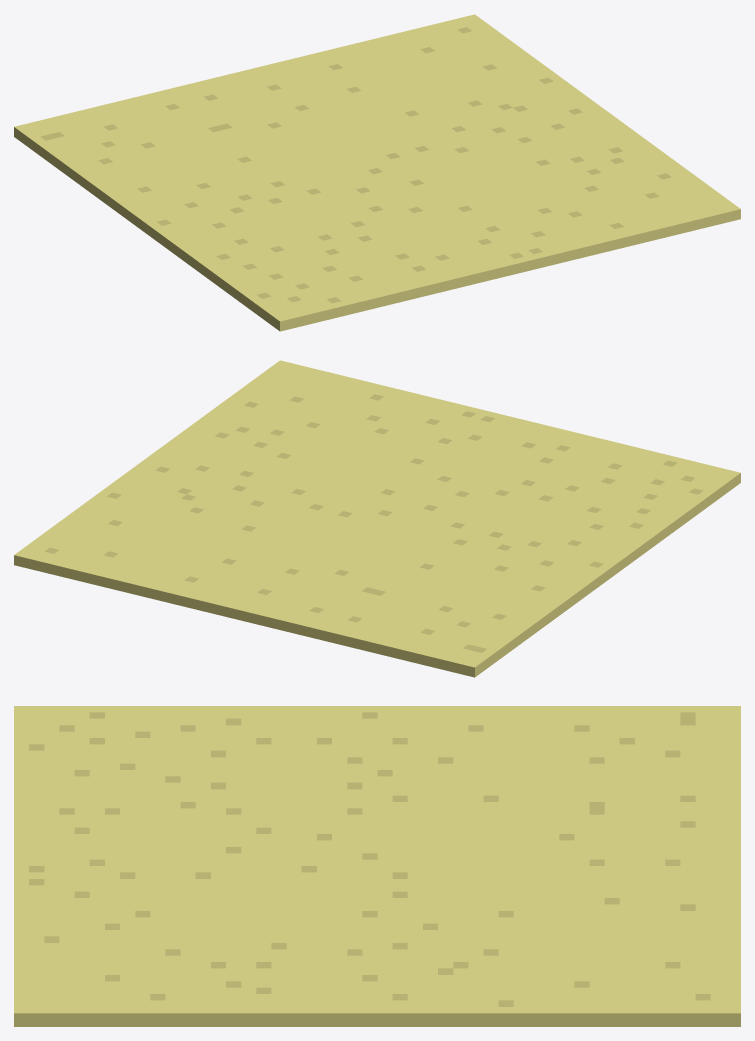
Rendered from dirt-path.obj.
3 renders of one model, top to bottom at view 1: azimuth 30°, elevation 25°; view 2: azimuth 150°, elevation 25°; view 3: azimuth 270°, elevation 25°, orthographic. The views are drawn at different scales.
Bounding box in the file's own units: 4.8 × 0.1 × 4.8.
1 material, 1 textured.
